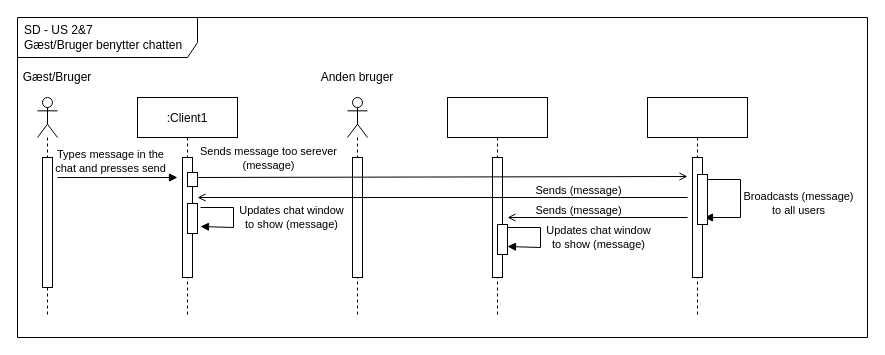
This 885x355 diagram has some shape labels left out. Each missing label, with the centre of its shape:
":Client2" goes at pixel 497 207.
":Server" goes at pixel 697 207.
